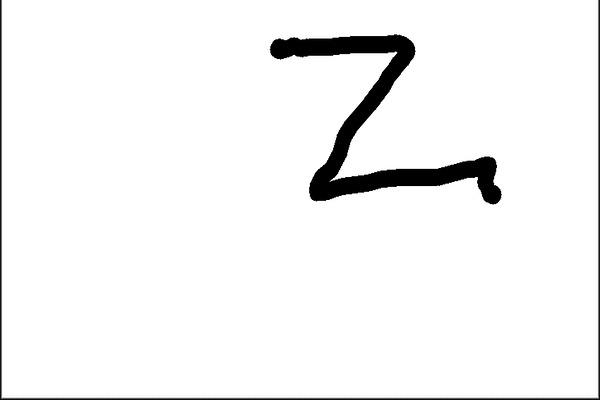Z: (258, 27, 508, 212)
